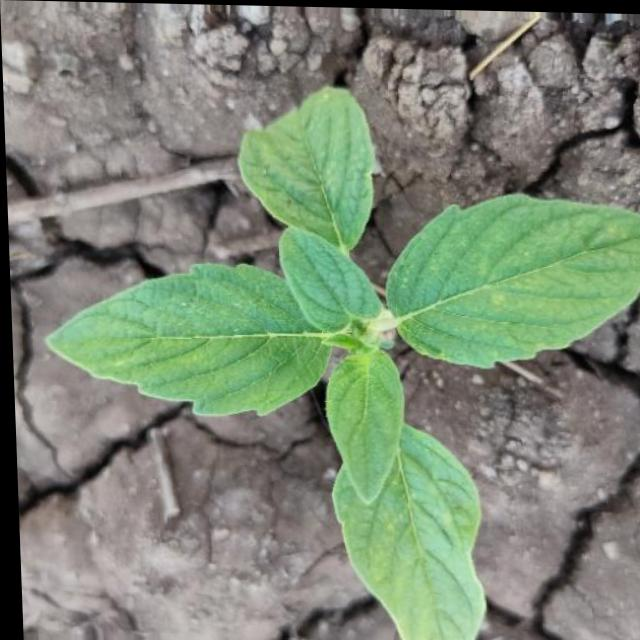crop: (31, 78, 640, 640)
